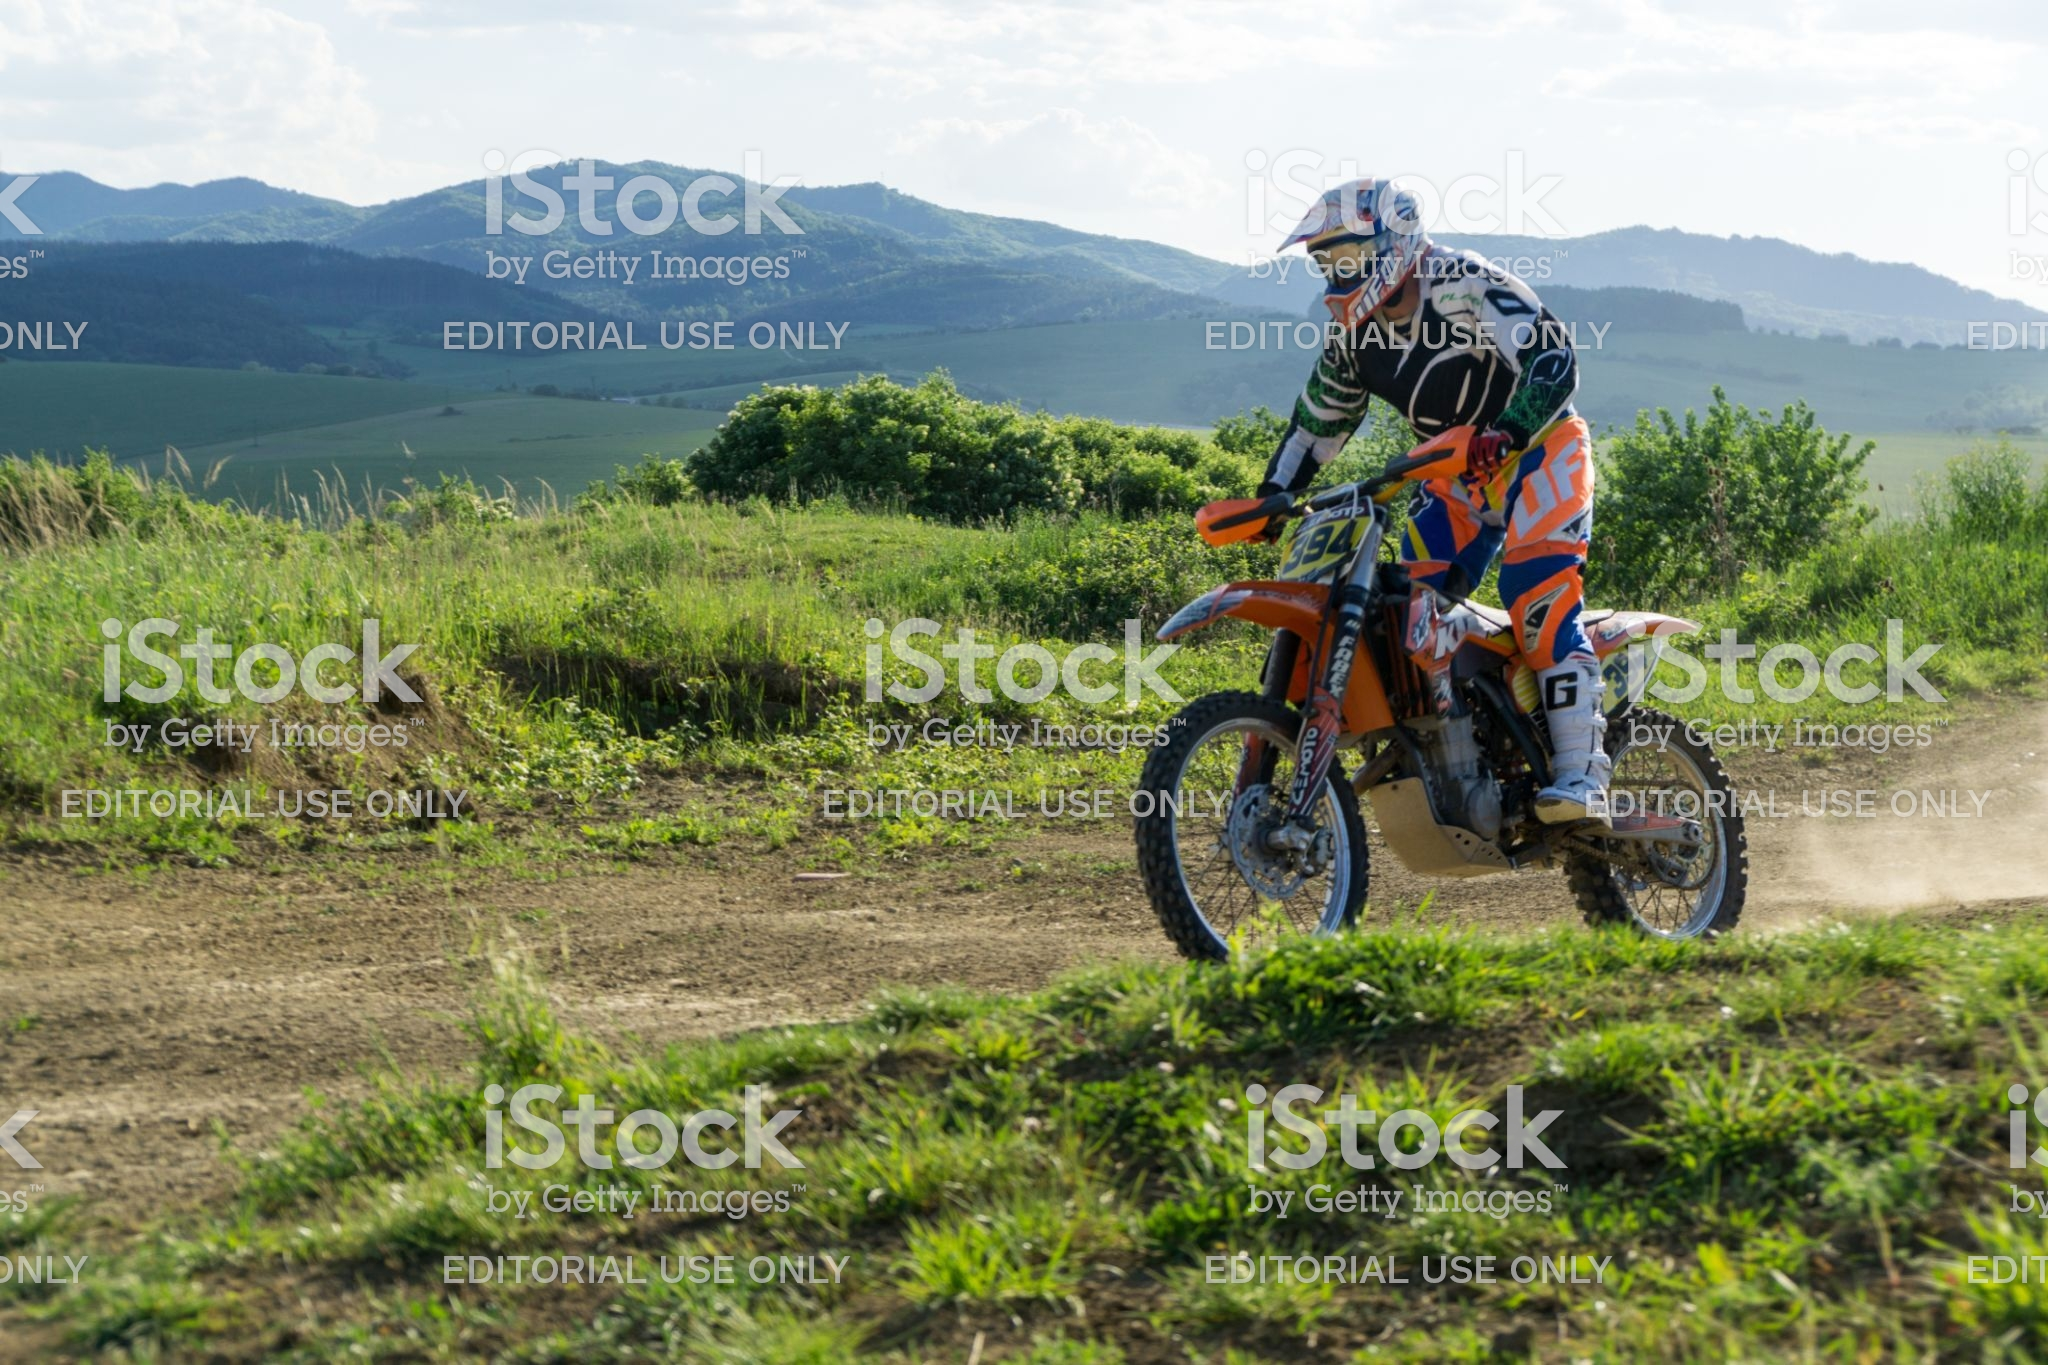helmet: (1279, 178, 1440, 329)
